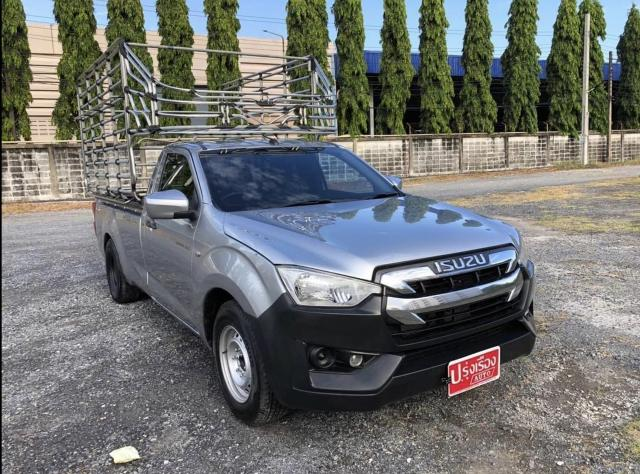pickup-truck: (70, 28, 551, 429)
